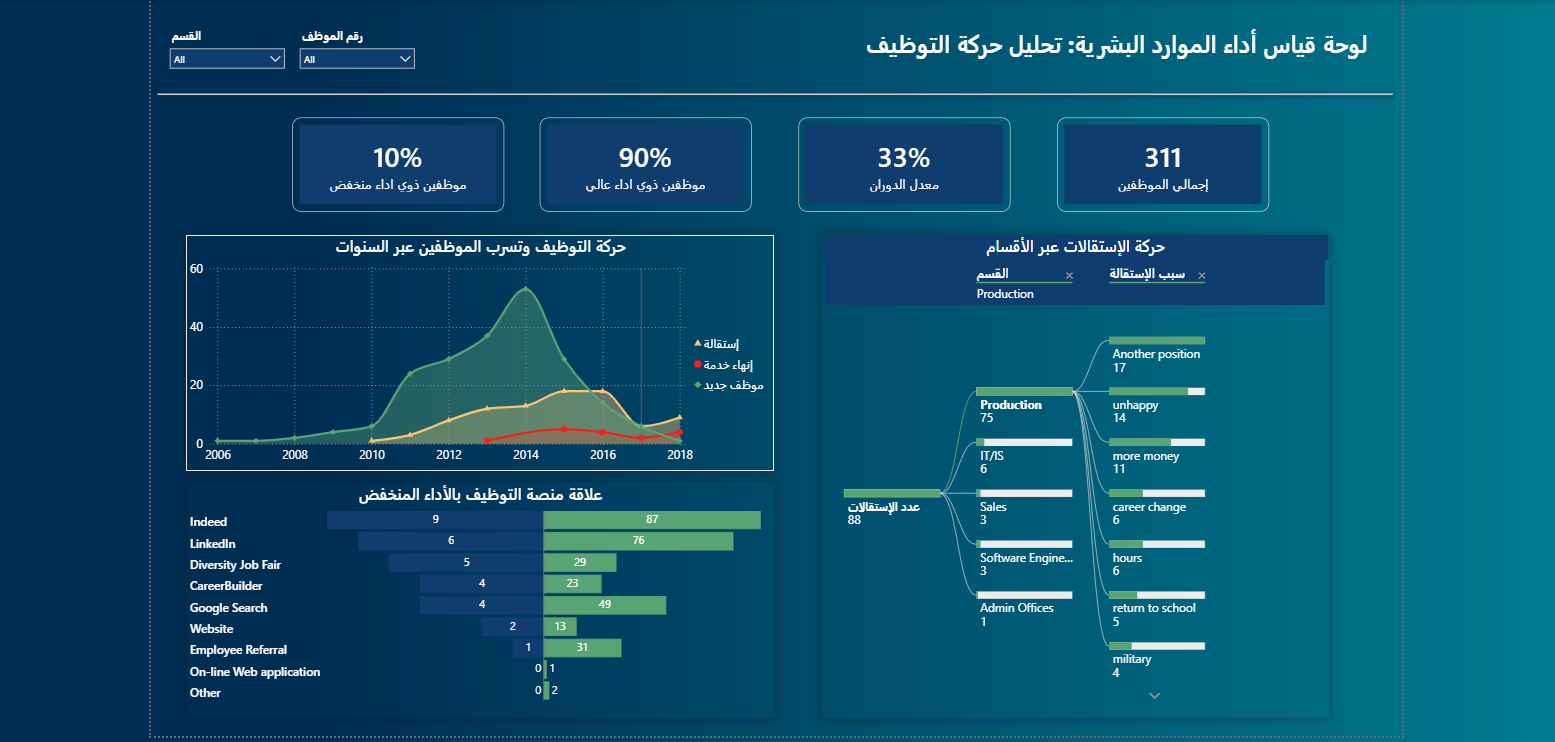

The page's visual inventory and layout, read from the dashboard file:
{"tool":"powerbi","page":{"name":"تحليل التوظيف والإستقالات","canvas":[1700,1000],"ordinal":1},"visuals":[{"type":"cardVisual","fields":{"Data":["All-Measuers.Turnover Rate %"]},"box":[880,160,288,128],"z":0},{"type":"textbox","box":[944,32,736,80],"z":1000},{"type":"cardVisual","fields":{"Data":["All-Measuers.High Performers"]},"box":[528,160,288,128],"z":2000},{"type":"slicer","fields":{"Values":["Departments.DepartmentName"]},"box":[16,32,176,80],"z":3000},{"type":"shape","box":[0,112,1696,32],"z":4000},{"type":"cardVisual","fields":{"Data":["All-Measuers.Low Performers"]},"box":[192,160,288,128],"z":5000},{"type":"cardVisual","fields":{"Data":["All-Measuers.عدد الموظفين"]},"box":[1232,160,288,128],"z":6000},{"type":"lineChart","title":"حركة التوظيف وتسرب الموظفين عبر السنوات","fields":{"Category":["Date_Dim.Year"],"Y":["All-Measuers.Voluntarily Terminated Over Time","All-Measuers.Terminated for Cause Over Time","All-Measuers.Active Emp Over Time"]},"box":[48,320,800,320],"z":7000},{"type":"TornadoChart1452517688218","title":"علاقة منصة التوظيف بالأداء المنخفض","fields":{"Category":["Employees.RecruitmentSource"],"Values":["All-Measuers.Low Performers Count","All-Measuers.Total_Employees"]},"box":[48,656,800,320],"z":8000},{"type":"slicer","title":"السنة","fields":{"Values":["Employees.EmpID"]},"box":[192,32,176,96],"z":9000},{"type":"decompositionTreeVisual","title":"حركة الإستقالات عبر الأقسام","fields":{"Analyze":["All-Measuers.Voluntarily Terminated Count"],"ExplainBy":["Departments.DepartmentName","Employees.TermReason"]},"box":[912,320,688,656],"z":10000}]}

Visuals, with their boxes on the page's 1700x1000 design canvas (x1, y1, x2, y2). These are canvas units, not pixel positions in the 1555x742 screenshot, which may show the page scaled, cropped or inside an application window:
cardVisual - All-Measuers.Turnover Rate %: <box>880,160,1168,288</box>
textbox: <box>944,32,1680,112</box>
cardVisual - All-Measuers.High Performers: <box>528,160,816,288</box>
slicer - Departments.DepartmentName: <box>16,32,192,112</box>
shape: <box>0,112,1696,144</box>
cardVisual - All-Measuers.Low Performers: <box>192,160,480,288</box>
cardVisual - All-Measuers.عدد الموظفين: <box>1232,160,1520,288</box>
"حركة التوظيف وتسرب الموظفين عبر السنوات" lineChart: <box>48,320,848,640</box>
"علاقة منصة التوظيف بالأداء المنخفض" TornadoChart1452517688218: <box>48,656,848,976</box>
"السنة" slicer: <box>192,32,368,128</box>
"حركة الإستقالات عبر الأقسام" decompositionTreeVisual: <box>912,320,1600,976</box>
